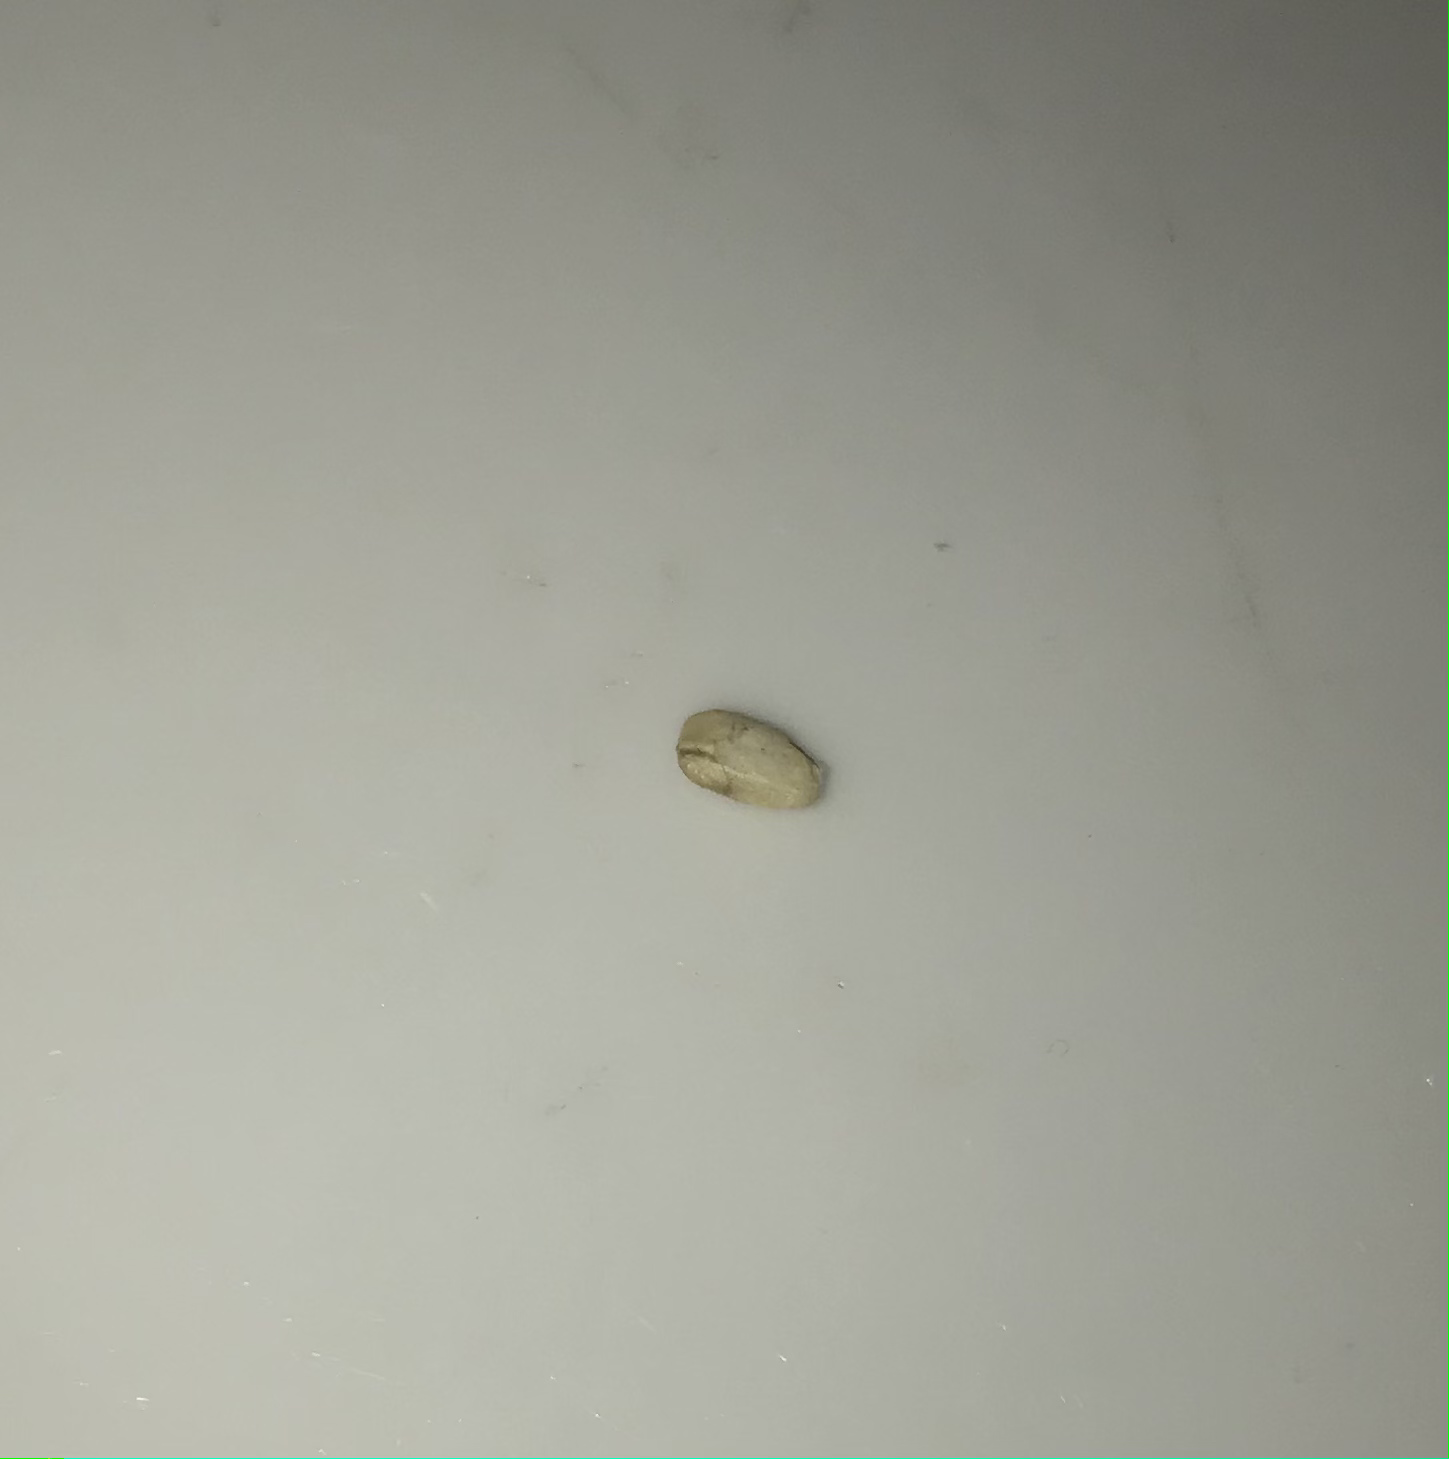Gao Lut Bac: (662, 699, 832, 813)
